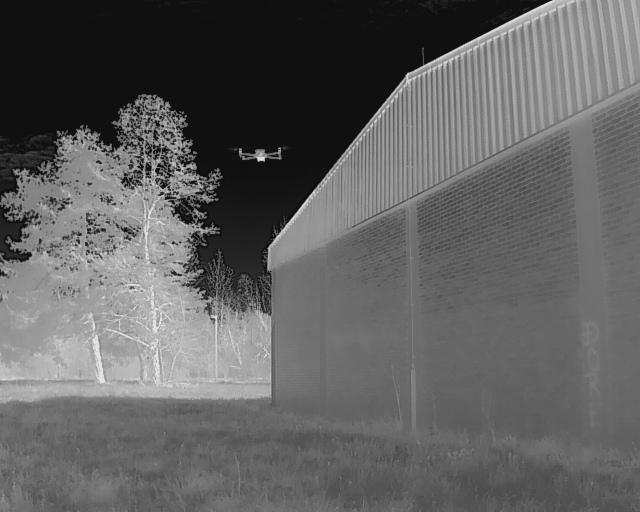drone: (227, 140, 296, 167)
